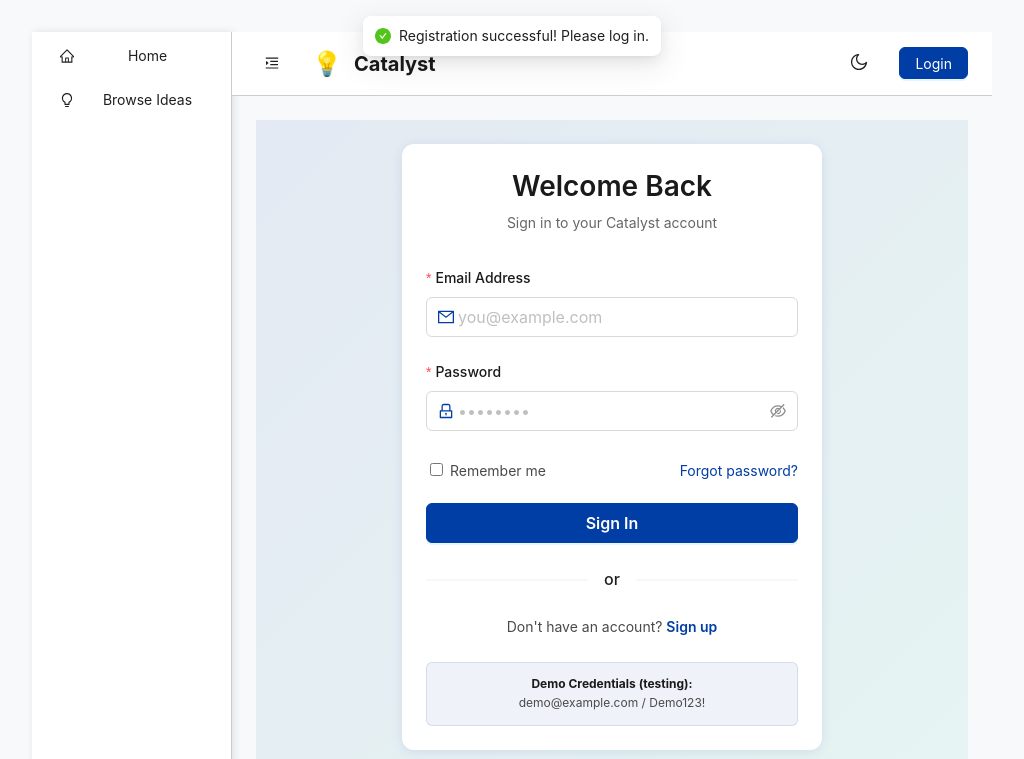
it: LoginPage Component › should display fallback error when login rejects with non-error value
Step 1. Type "test@example.com" into the field with test id "login-email-input" → (622, 317), box [458,305,786,329]
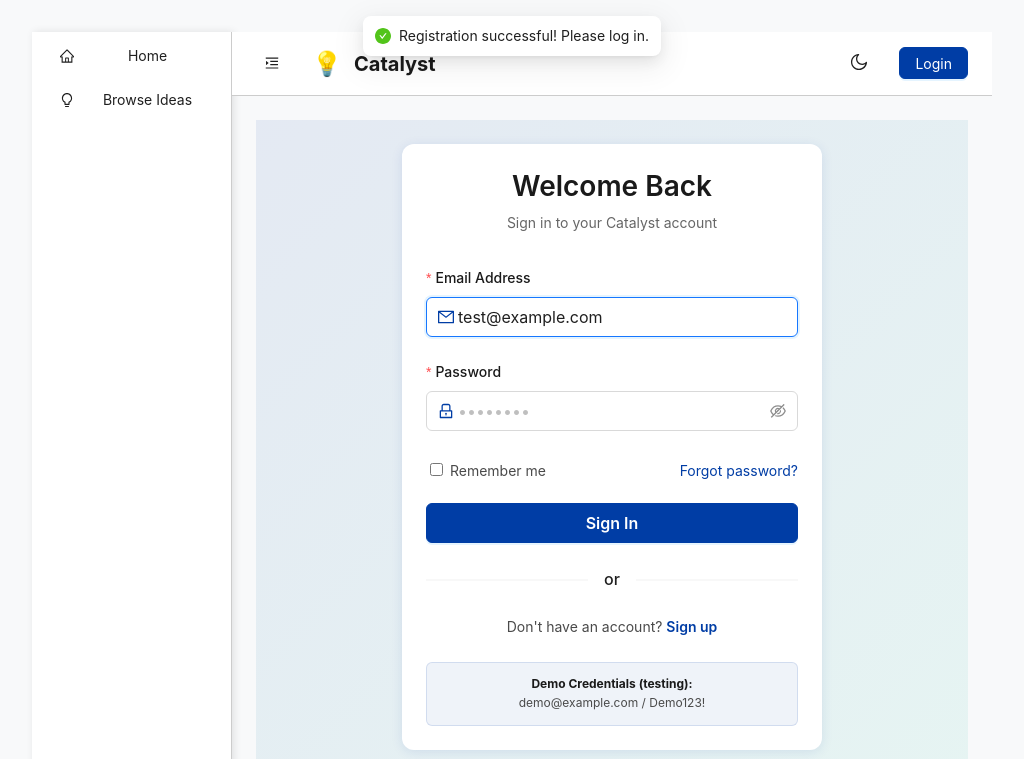
Step 2. Type "password123" into the password field with test id "login-password-input" → (612, 411), box [458,399,766,423]
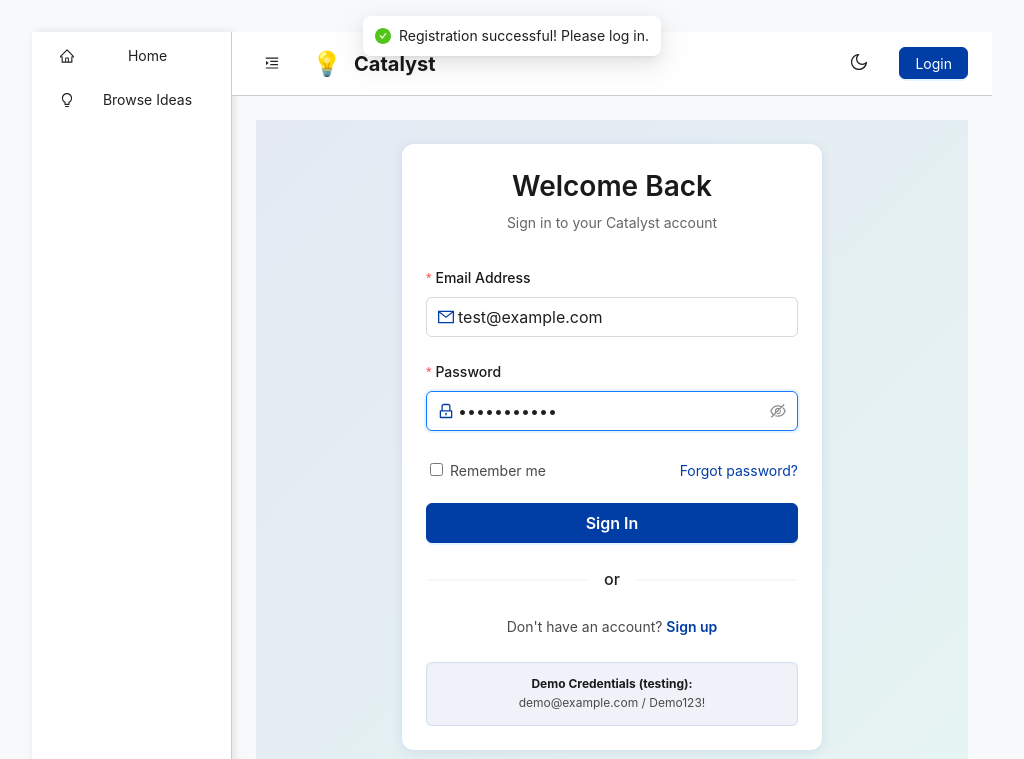
Step 3. Click the button with test id "login-submit" → click(612, 523), box [426,503,798,543]
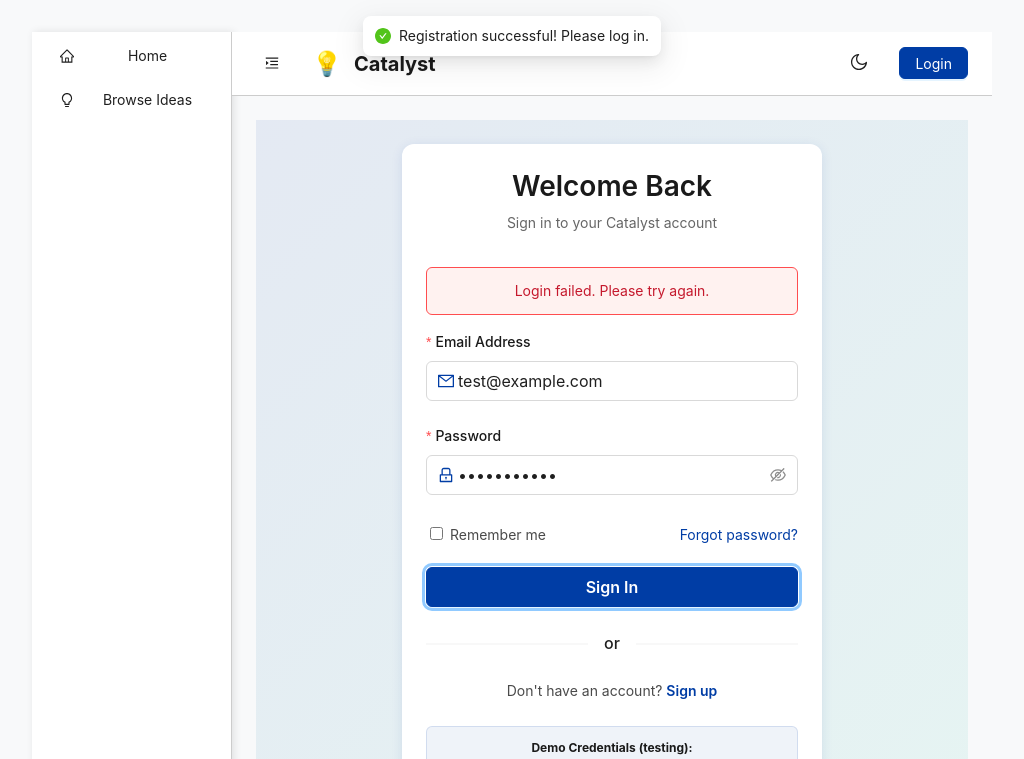
Now the text "Login failed. Please try again." is shown, box [426,267,798,315]
